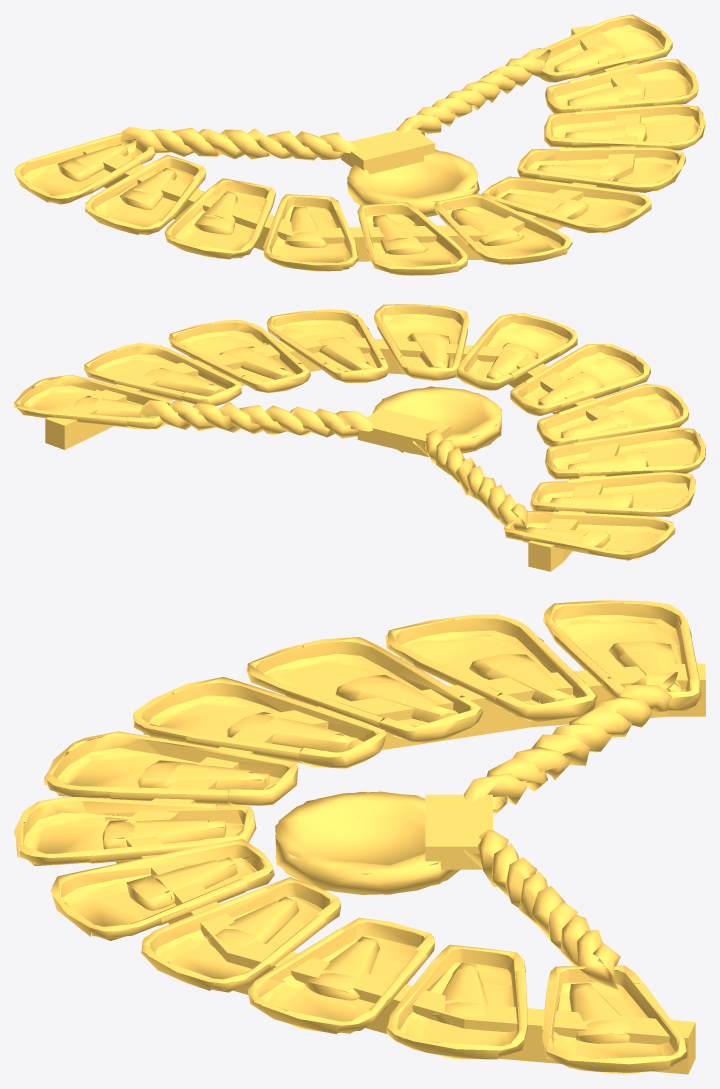
The model's file is Gold_Necklace.glb.
The picture shows the model from 3 angles, top to bottom: view 1: azimuth 30°, elevation 25°; view 2: azimuth 150°, elevation 25°; view 3: azimuth 270°, elevation 25°; orthographic projection. The views are drawn at different scales.
Parts seen in each view (by area): view 1: Gold_Necklace; view 2: Gold_Necklace; view 3: Gold_Necklace.
Part boxes in pixels (x1,y1,x2,y2): Gold_Necklace: [14, 14, 705, 275]; Gold_Necklace: [14, 304, 705, 571]; Gold_Necklace: [14, 600, 705, 1074].
Size of the model in its own units: 1.2 by 0.0782 by 0.7563.
